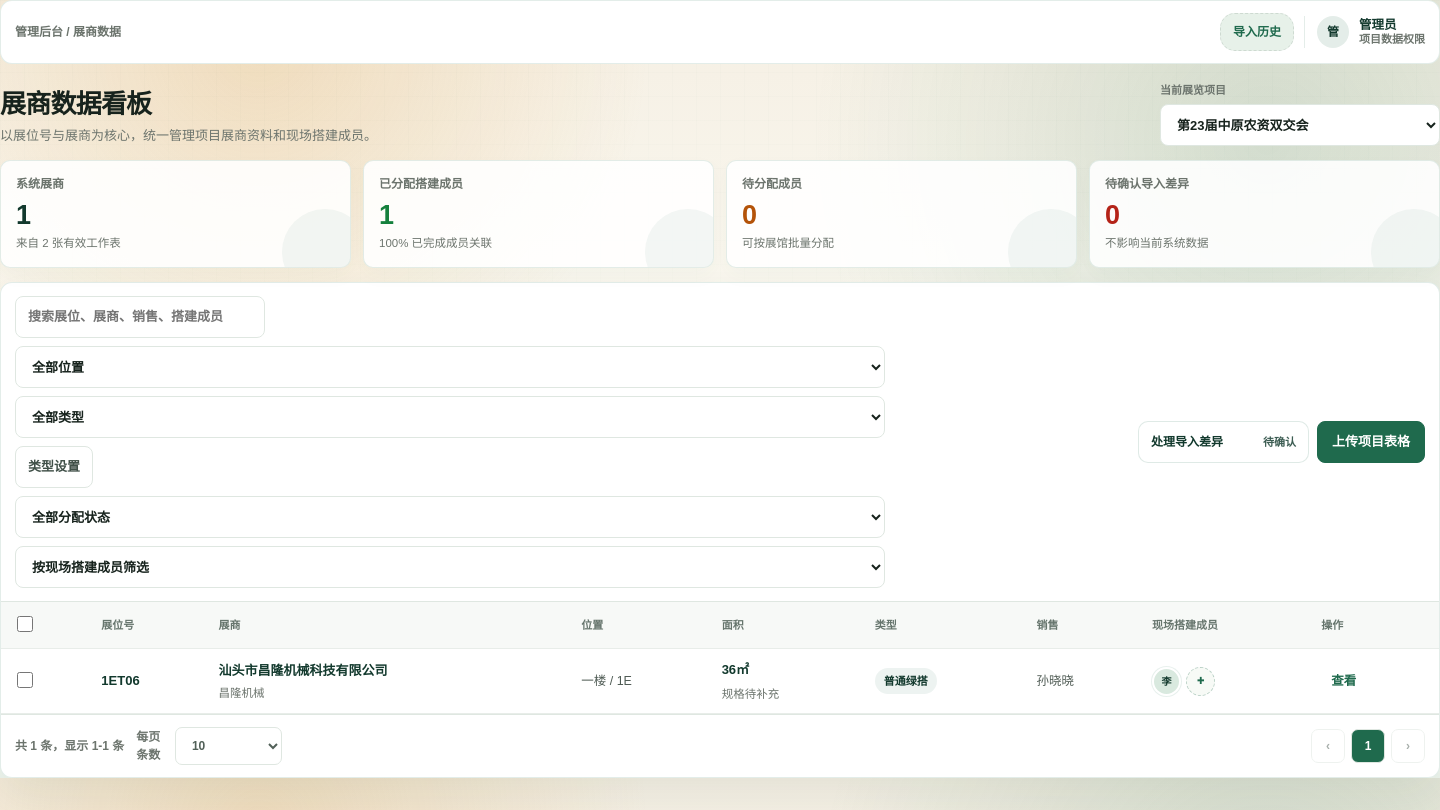
Scenario: ExhibitorDashboard › traps focus in the detail drawer, closes with Escape, and restores the opener
Click the button with aria-label "查看汕头市昌隆机械科技有限公司": (1344, 681) x1=1321 y1=664 x2=1366 y2=698
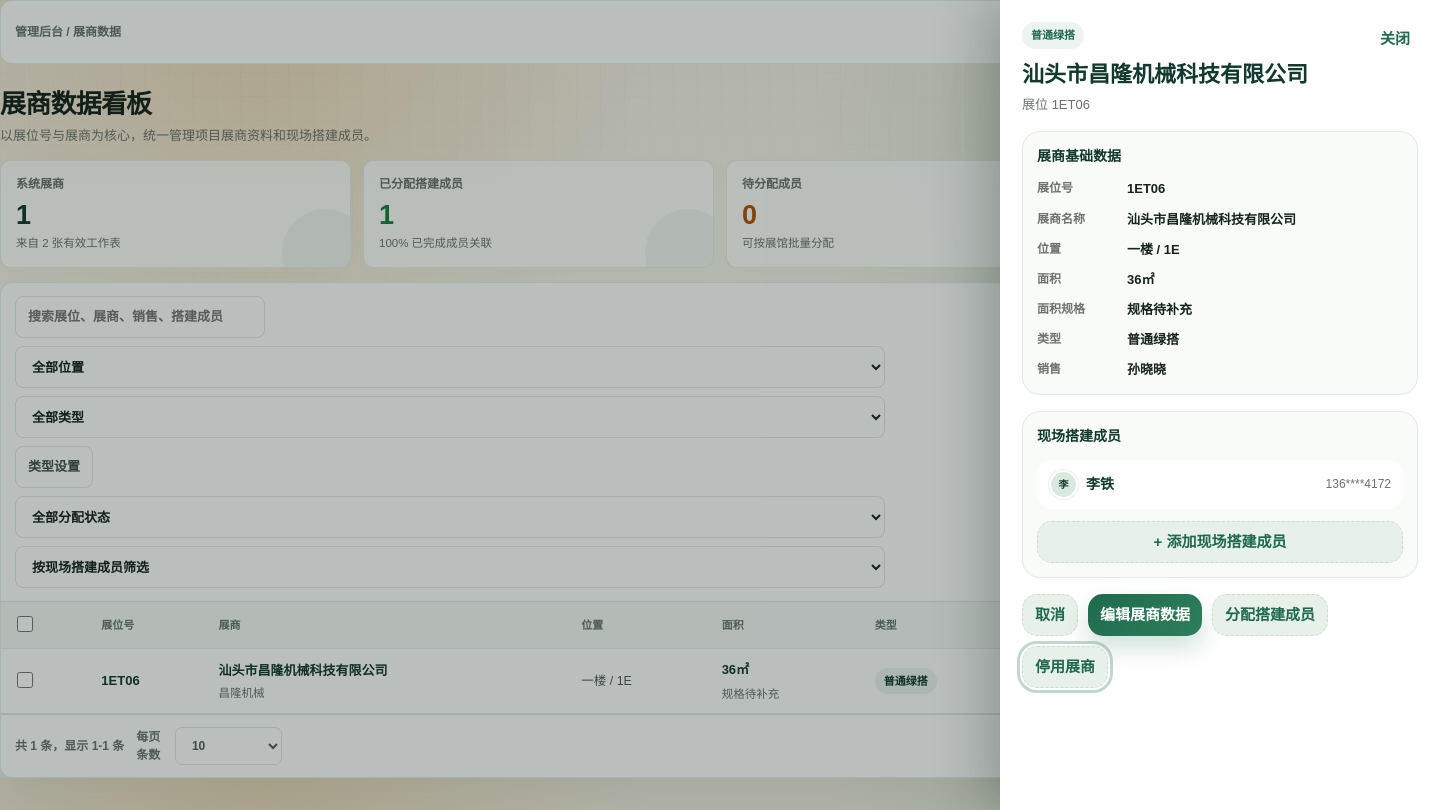
Press Tab
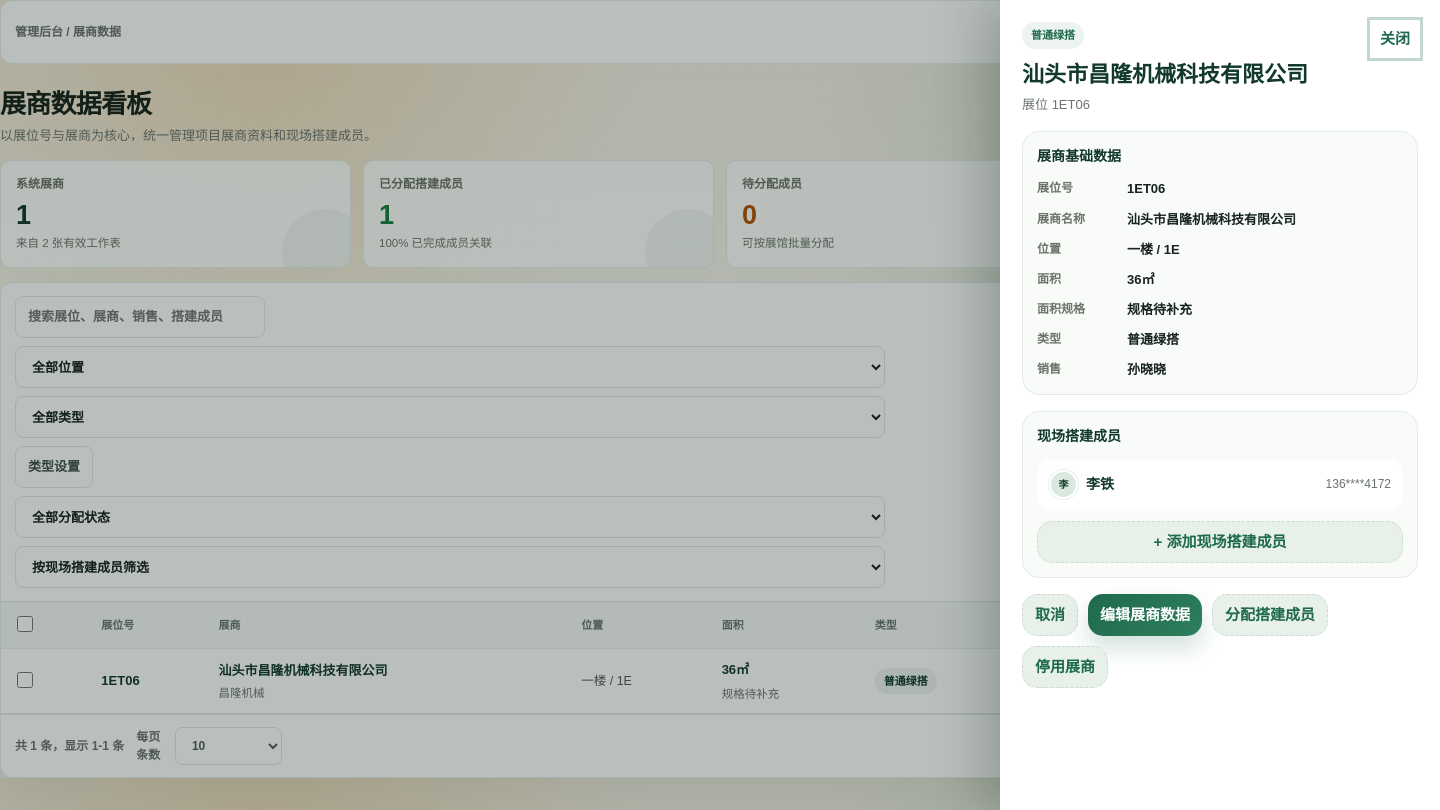
Press Escape
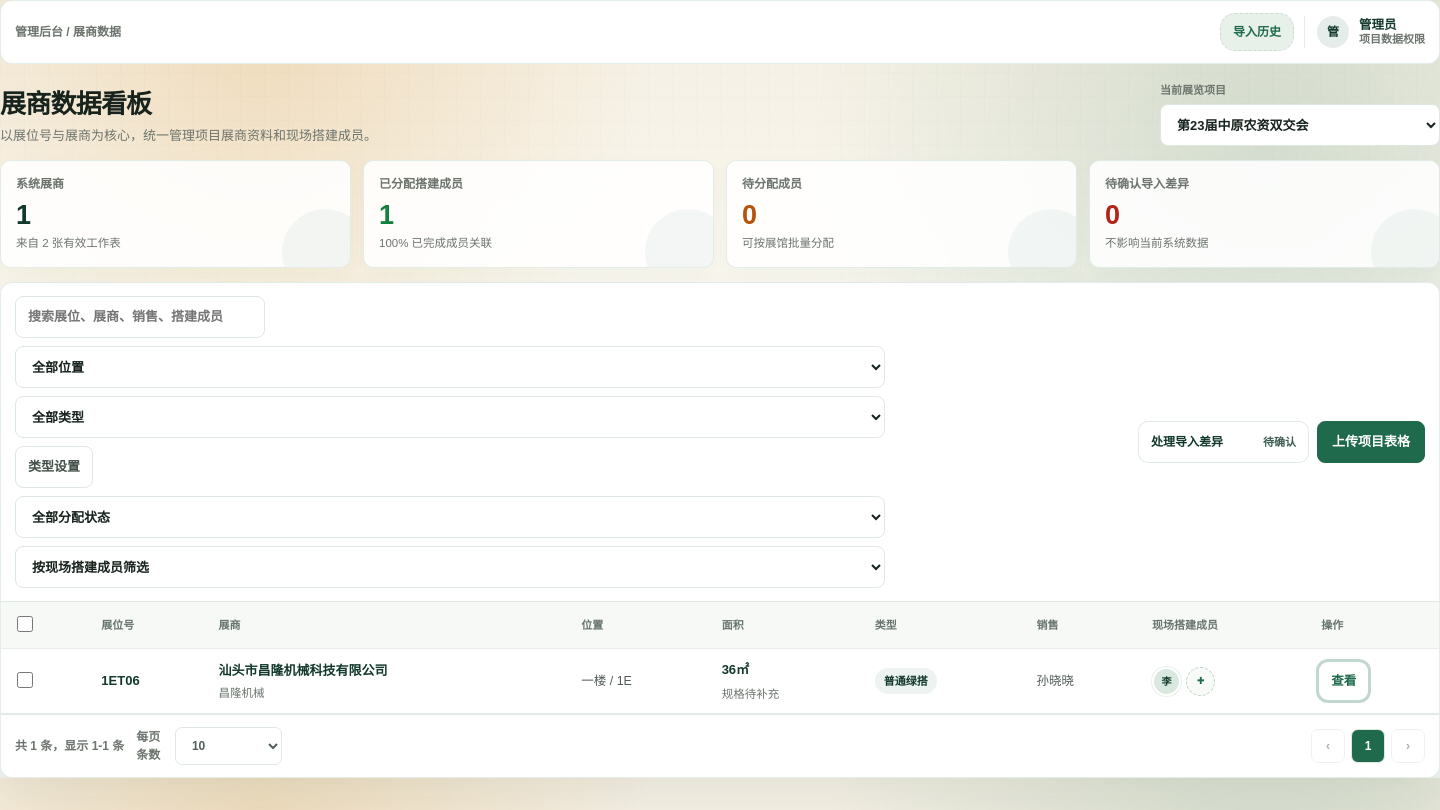
Now the dialog "展商详情" is gone
